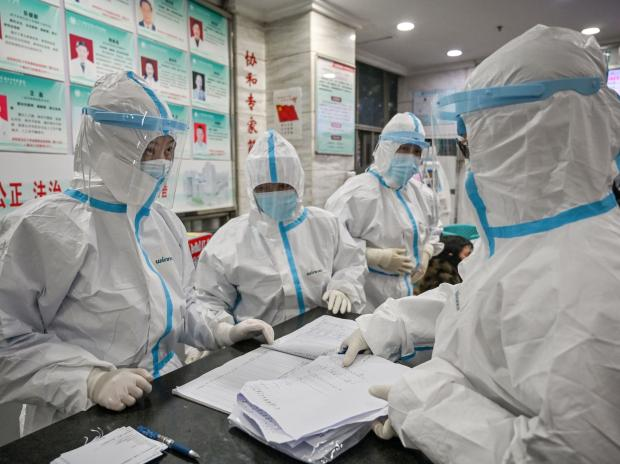Coverall: (396, 23, 619, 464), (1, 70, 209, 437), (185, 129, 367, 354), (321, 109, 439, 306)
Face_Shield: (427, 83, 518, 235), (89, 113, 187, 219), (374, 132, 430, 199)
Gloves: (369, 376, 420, 445), (83, 366, 151, 410), (218, 310, 279, 349), (365, 244, 415, 279), (336, 326, 374, 368), (408, 241, 437, 282), (321, 286, 356, 317)
with_mask: (451, 123, 503, 230), (141, 132, 179, 185), (256, 180, 302, 221), (388, 141, 425, 190)
